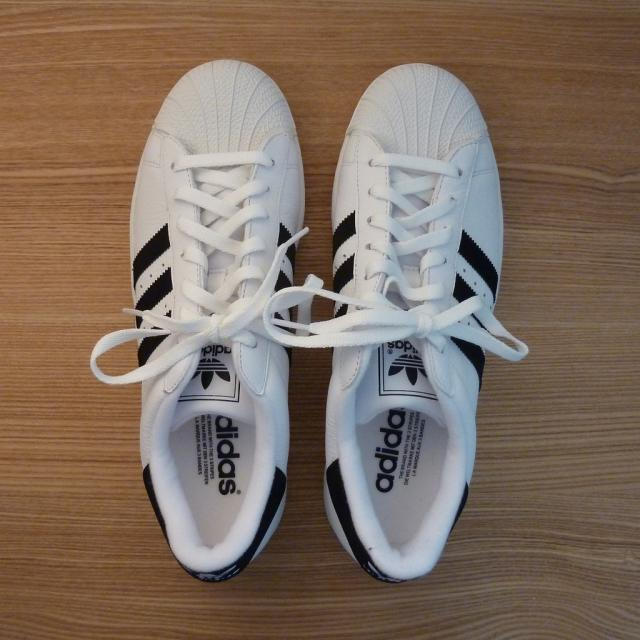adidas: (190, 345, 236, 396), (384, 340, 432, 388)
